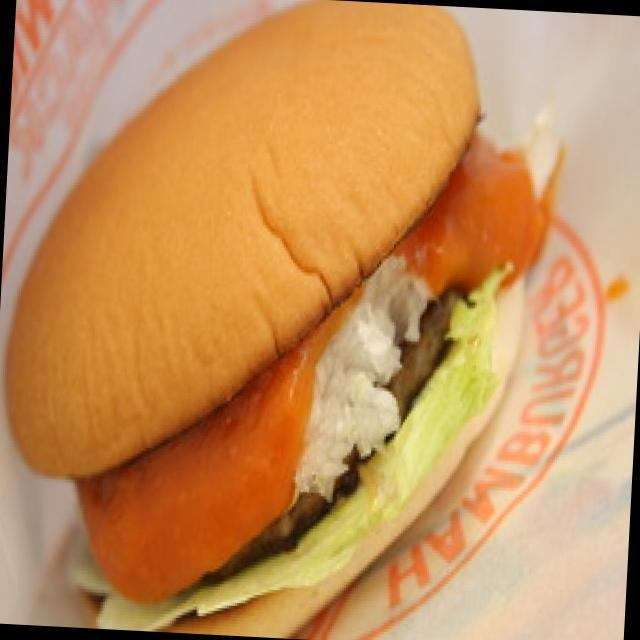Hamburger: (0, 0, 573, 640)
